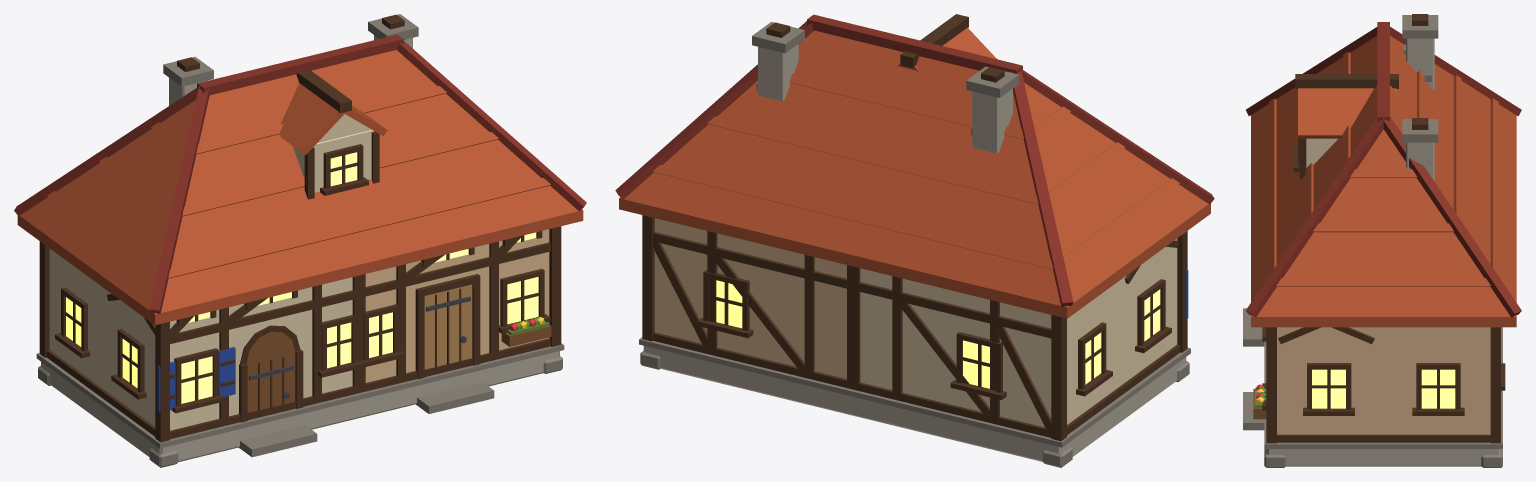
File: Haus_Lang.fbx
The picture shows the model from 3 angles, left to right: view 1: azimuth 30°, elevation 25°; view 2: azimuth 150°, elevation 25°; view 3: azimuth 270°, elevation 25°; orthographic projection. The views are drawn at different scales.
Visible parts, largest first — view 1: Haus_Lang; view 2: Haus_Lang; view 3: Haus_Lang.
Boxes of the visible parts, x1,y1,x2,y2 form: Haus_Lang: (14,14,586,467); Haus_Lang: (615,14,1214,467); Haus_Lang: (1243,14,1521,467).
Bounding box in the file's own units: 9.4 × 6.6 × 5.35.
